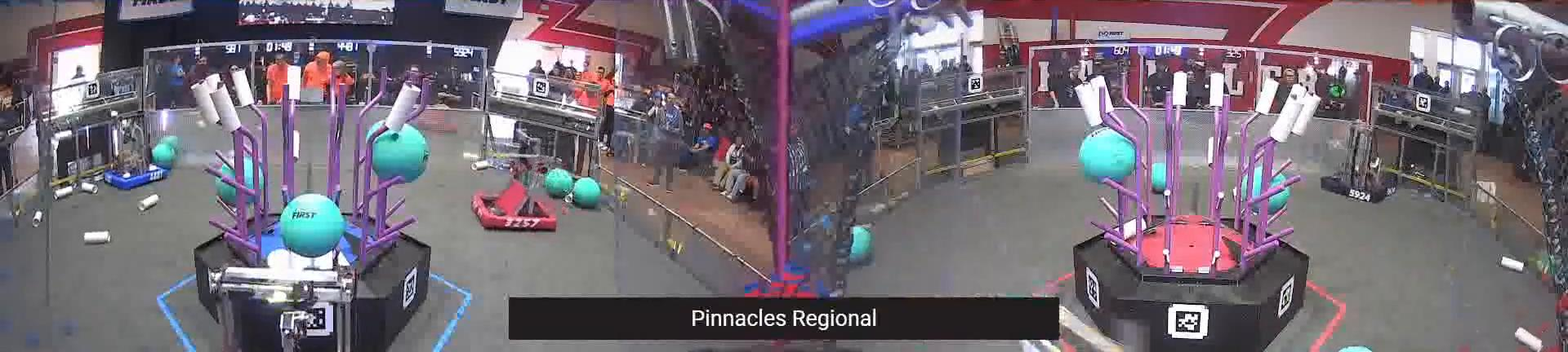reef: (192, 65, 432, 345), (1076, 69, 1307, 352)
robot: (203, 261, 356, 352), (1318, 120, 1401, 204), (474, 174, 560, 236), (102, 118, 170, 186)
